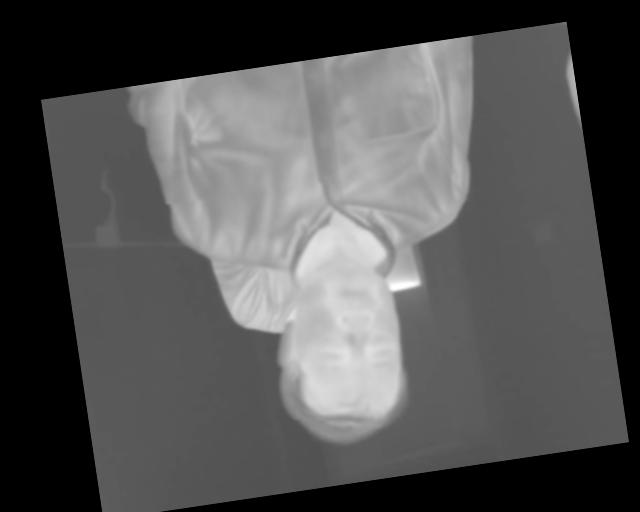face: (261, 256, 416, 456)
